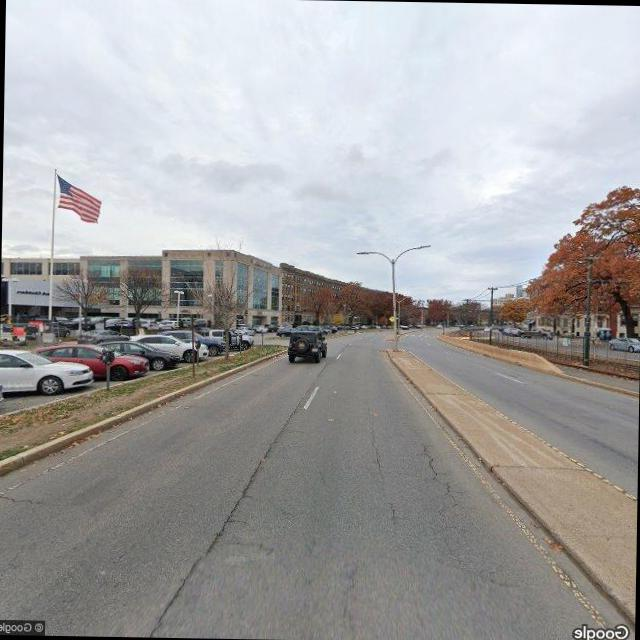pothole: (414, 429, 463, 508), (369, 424, 389, 480)
